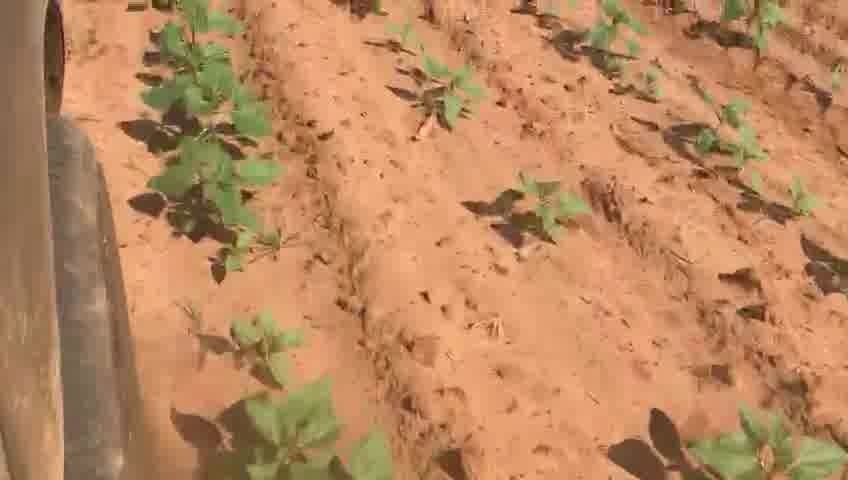sunflower: (126, 128, 280, 275), (175, 379, 401, 475), (129, 20, 271, 144), (669, 404, 838, 478), (404, 47, 488, 130), (228, 307, 314, 388), (506, 172, 597, 248), (691, 96, 765, 169), (575, 6, 649, 59), (612, 55, 665, 104), (777, 170, 821, 214), (371, 17, 428, 48)
